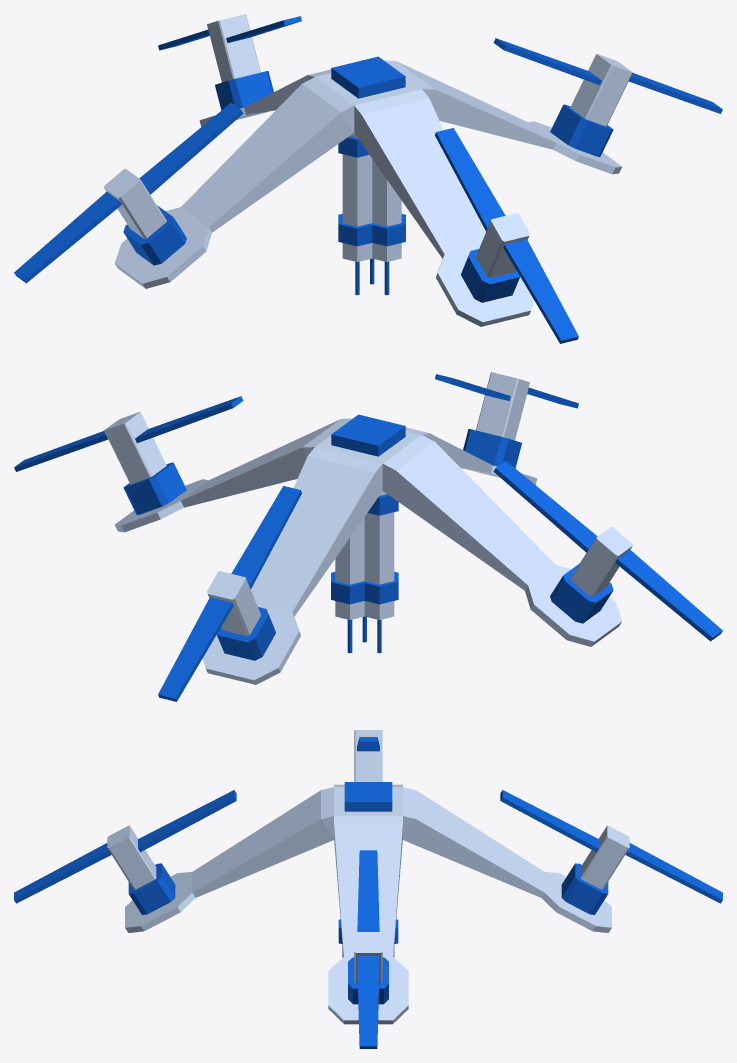
The model's file is Transition_Drone_2.fbx.
3 renders of one model, top to bottom at view 1: azimuth 30°, elevation 25°; view 2: azimuth 150°, elevation 25°; view 3: azimuth 270°, elevation 25°, orthographic. The views are drawn at different scales.
Parts seen in each view (by area): view 1: TransitionDrone2; view 2: TransitionDrone2; view 3: TransitionDrone2.
Boxes of the visible parts, x1=… form: TransitionDrone2: x1=14, y1=14, x2=722, y2=343; TransitionDrone2: x1=14, y1=372, x2=722, y2=701; TransitionDrone2: x1=14, y1=730, x2=722, y2=1048.
Bounding box in the file's own units: 20.34 × 6.1 × 20.34.
1 material, 1 textured.
